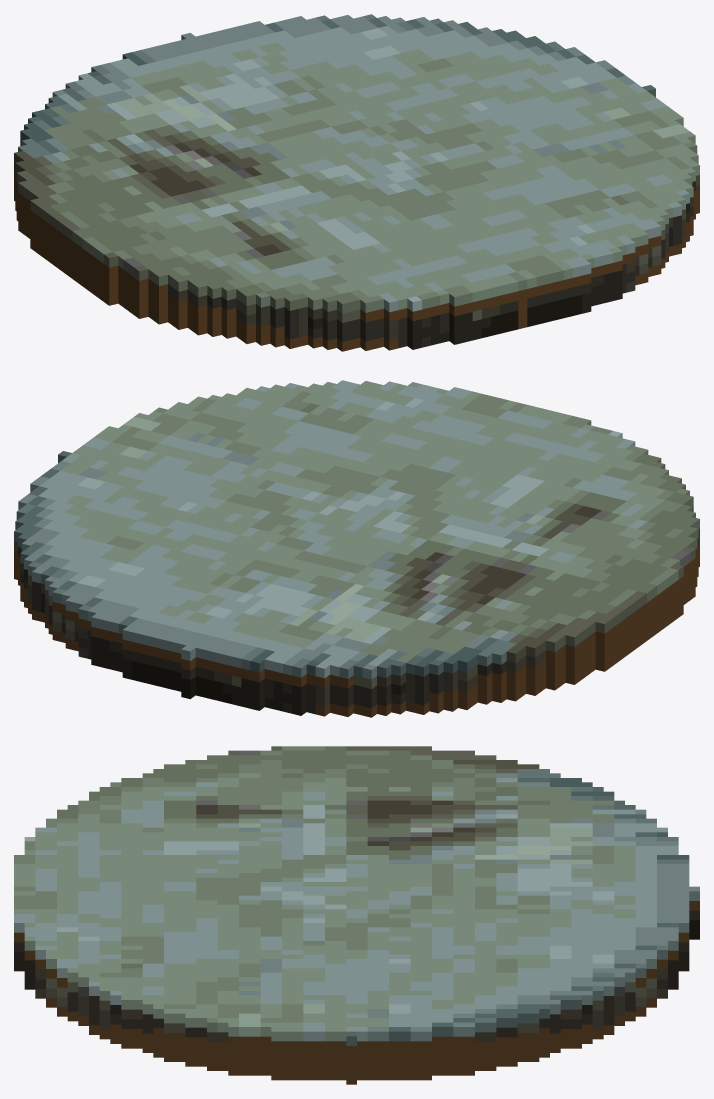
File: Tai_27.obj
3 renders of one model, top to bottom at view 1: azimuth 30°, elevation 25°; view 2: azimuth 150°, elevation 25°; view 3: azimuth 270°, elevation 25°, orthographic.
Bounding box in the file's own units: 6.4 × 0.5 × 6.4.
1 material, 1 textured.
